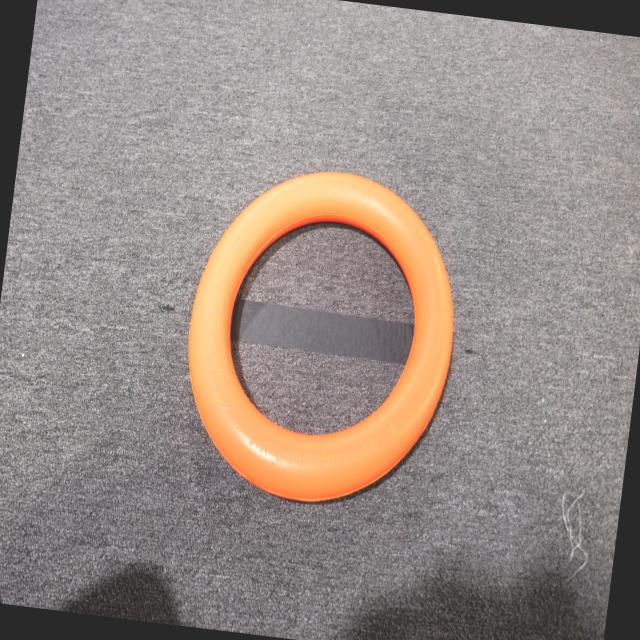note: (168, 149, 476, 523)
